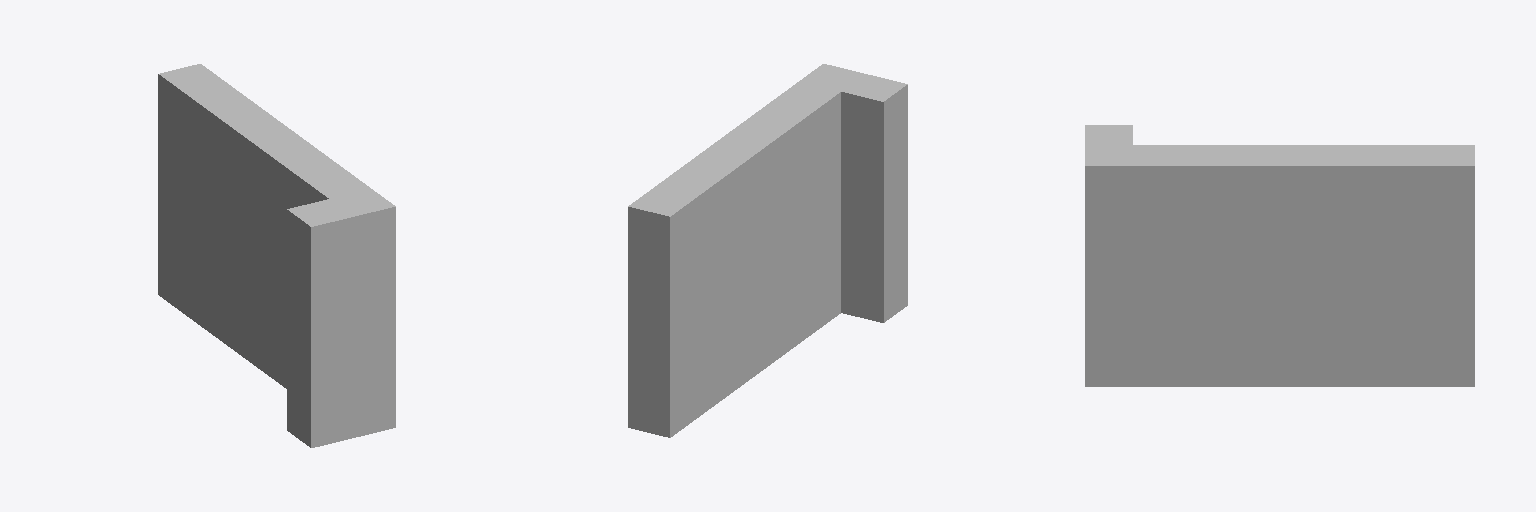
The model's file is microwave door 2.obj.
3 views of the same model, side by side, from view 1: azimuth 30°, elevation 25°; view 2: azimuth 150°, elevation 25°; view 3: azimuth 270°, elevation 25° (orthographic).
Visible parts, largest first — view 1: microwave door 2; view 2: microwave door 2; view 3: microwave door 2.
Part boxes in pixels (bbox=[...]): microwave door 2: bbox=[158, 64, 395, 447]; microwave door 2: bbox=[628, 64, 907, 437]; microwave door 2: bbox=[1085, 125, 1474, 386].
Bounding box in the file's own units: 2 × 5 × 8.